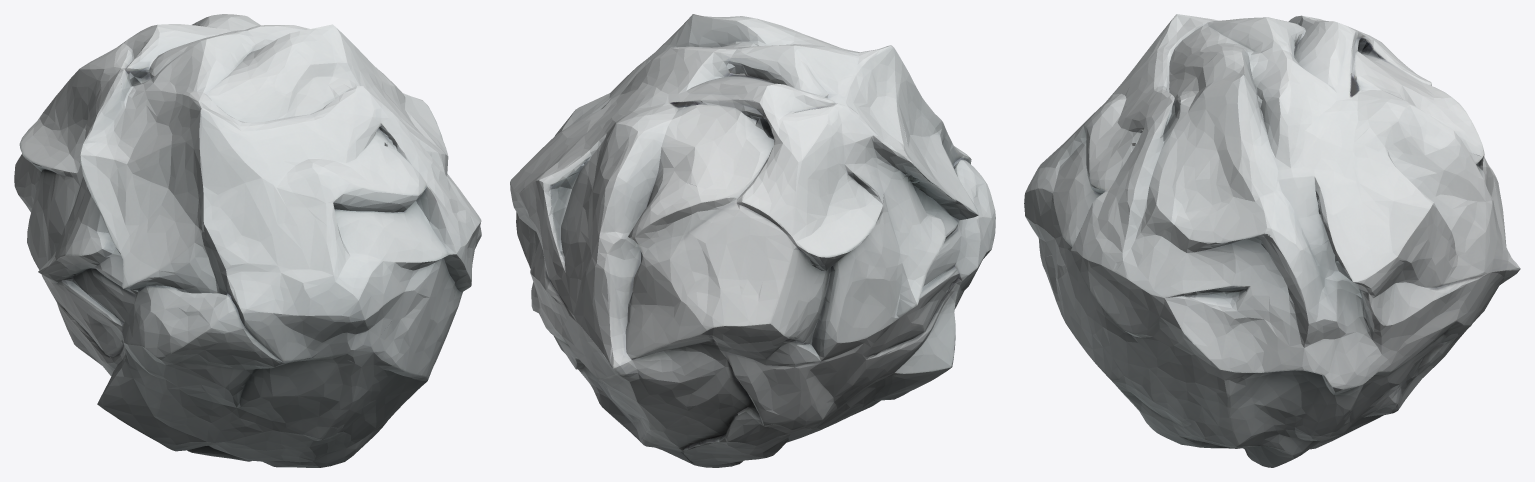
File: paperball_0.glb
3 renders of one model, left to right at view 1: azimuth 30°, elevation 25°; view 2: azimuth 150°, elevation 25°; view 3: azimuth 270°, elevation 25°, orthographic. The views are drawn at different scales.
Visible parts, largest first — view 1: world; view 2: world; view 3: world.
Boxes of the visible parts, x1,y1,x2,y2 form: world: (14, 14, 481, 467); world: (510, 14, 995, 467); world: (1024, 14, 1520, 467).
Size of the model in its own units: 0.8512 by 0.8964 by 0.9959.
Materials: 1 (1 with a texture image).
